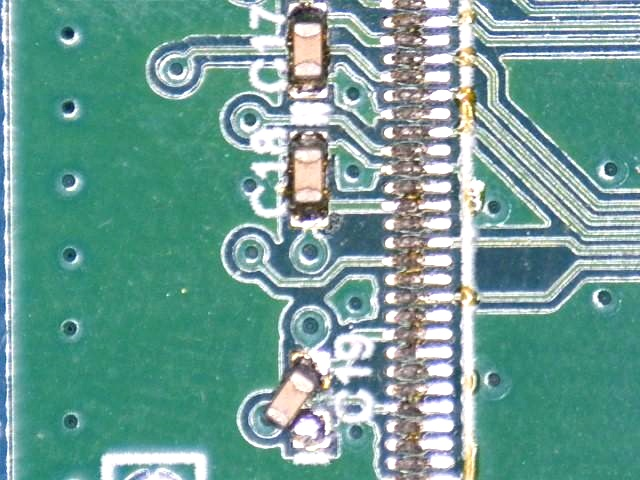pcb_defect: (264, 351, 330, 448)
